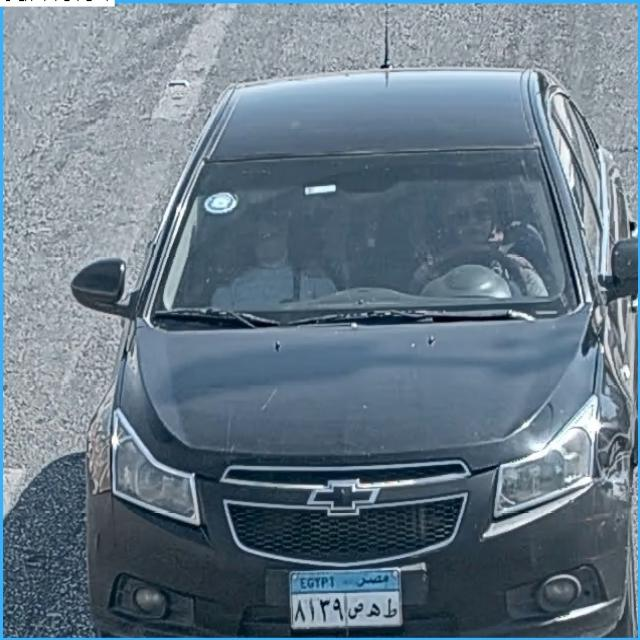windshield: (136, 146, 576, 313)
